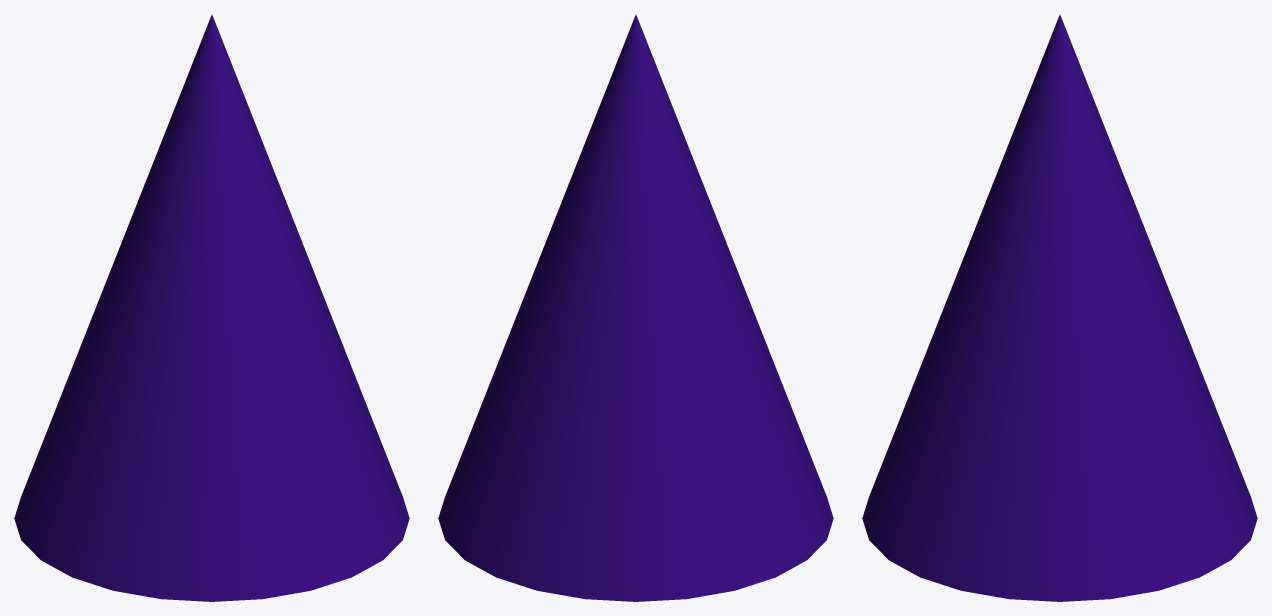
File: simple_000_Null-Locator-EmptyTransform_00.dae
3 views of the same model, side by side, from view 1: azimuth 30°, elevation 25°; view 2: azimuth 150°, elevation 25°; view 3: azimuth 270°, elevation 25° (orthographic).
Visible parts, largest first — view 1: Cone01; view 2: Cone01; view 3: Cone01.
Boxes of the visible parts, <box> form: Cone01: <box>14,14,409,601</box>; Cone01: <box>438,14,833,601</box>; Cone01: <box>862,14,1257,601</box>.
Size of what is drawn, in the model's own units: 433 by 433 by 609.
